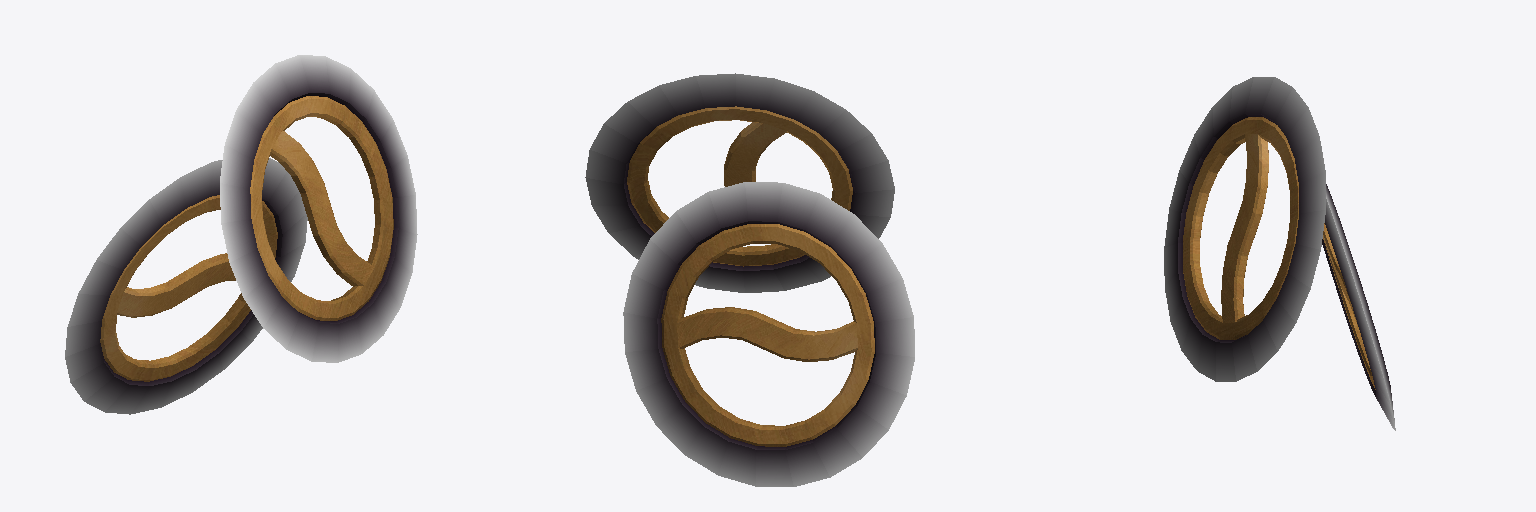
3 views of the same model, side by side, from view 1: azimuth 30°, elevation 25°; view 2: azimuth 150°, elevation 25°; view 3: azimuth 270°, elevation 25° (orthographic).
Visible parts, largest first — view 1: ChakramMesh_Chakram; view 2: ChakramMesh_Chakram; view 3: ChakramMesh_Chakram.
Boxes of the visible parts, x1,y1,x2,y2 form: ChakramMesh_Chakram: [65, 55, 417, 414]; ChakramMesh_Chakram: [585, 73, 914, 486]; ChakramMesh_Chakram: [1164, 77, 1395, 430].
Bounding box in the file's own units: 1.87 × 1.93 × 1.12.
Materials: 1 (1 with a texture image).